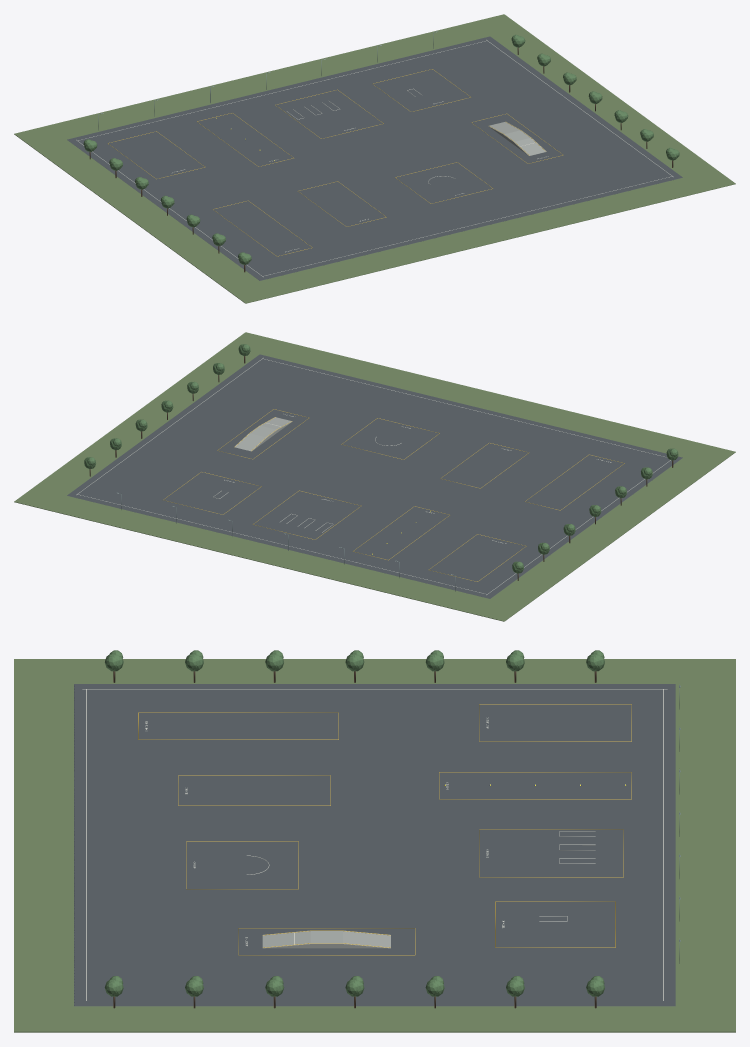
The model's file is DS_Autodrome.glb.
The picture shows the model from 3 angles, top to bottom: view 1: azimuth 30°, elevation 25°; view 2: azimuth 150°, elevation 25°; view 3: azimuth 270°, elevation 25°; orthographic projection. The views are drawn at different scales.
Parts seen in each view (by area): view 1: Asphalt, Ground, HillRamp; view 2: Asphalt, Ground, HillRamp; view 3: Asphalt, Ground, HillRamp.
Boxes of the visible parts, left/top/right/bottom form: Asphalt: left=67, top=36, right=682, bottom=280; Ground: left=14, top=14, right=735, bottom=303; HillRamp: left=488, top=122, right=546, bottom=155; Asphalt: left=67, top=354, right=682, bottom=598; Ground: left=14, top=332, right=735, bottom=621; HillRamp: left=234, top=417, right=292, bottom=451; Asphalt: left=74, top=684, right=675, bottom=1006; Ground: left=14, top=659, right=735, bottom=1032; HillRamp: left=262, top=930, right=390, bottom=948.
Bounding box in the file's own units: 220 × 8.62 × 180.
